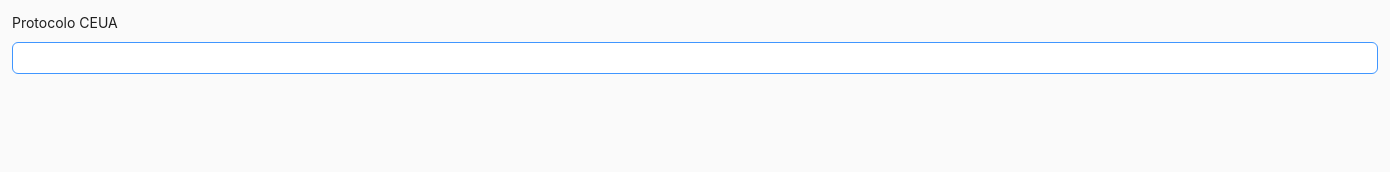
Test: campo do protocolo › põe a máscara durante a digitação, com o cursor depois do dígito digitado
Type "23080.0123452/026" into the field labelled "Protocolo CEUA" at (695, 58), box [12,42,1378,74]
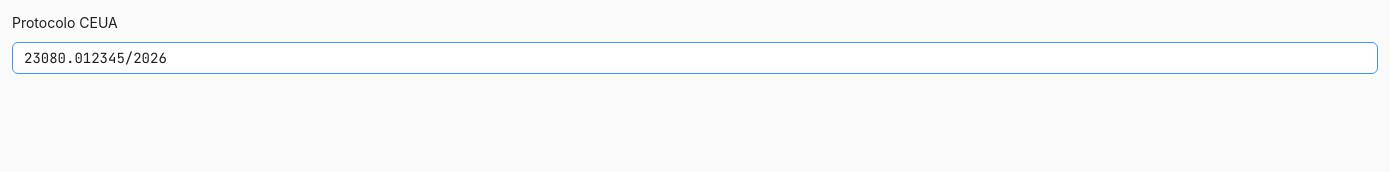
Now the field labelled "Protocolo CEUA" holds "23080.012345/2026", box [12,42,1378,74]
